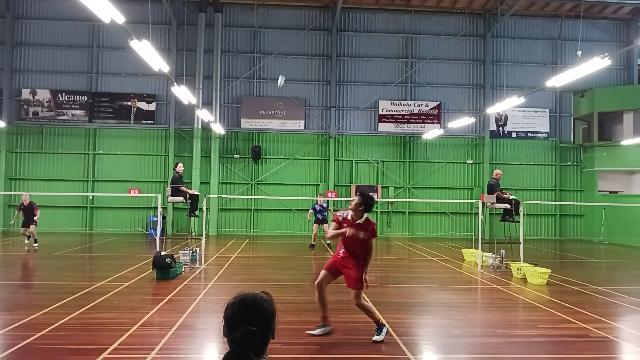Shuttlecock: (276, 73, 286, 87)
